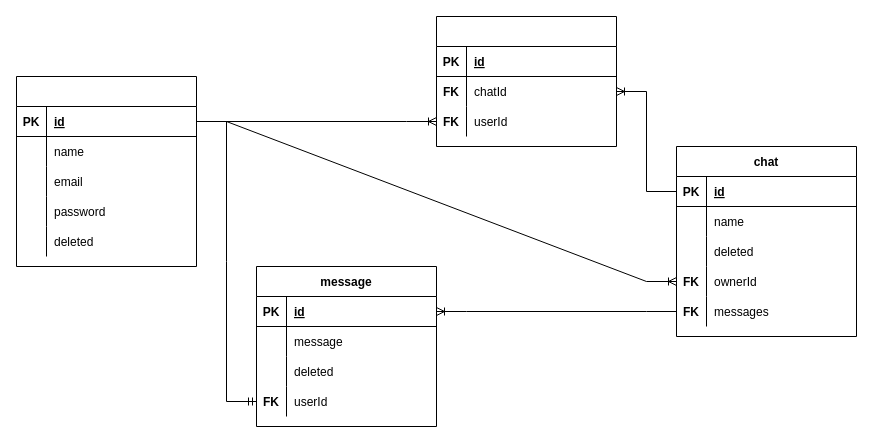
The diagram is 873 pixels wide and 443 high, and some of its shapes have lost their labels. Here are the shapes that lost their labels. From the top down, the box of each, then its label:
(436, 16, 616, 146): chatUser
(16, 76, 196, 266): user
